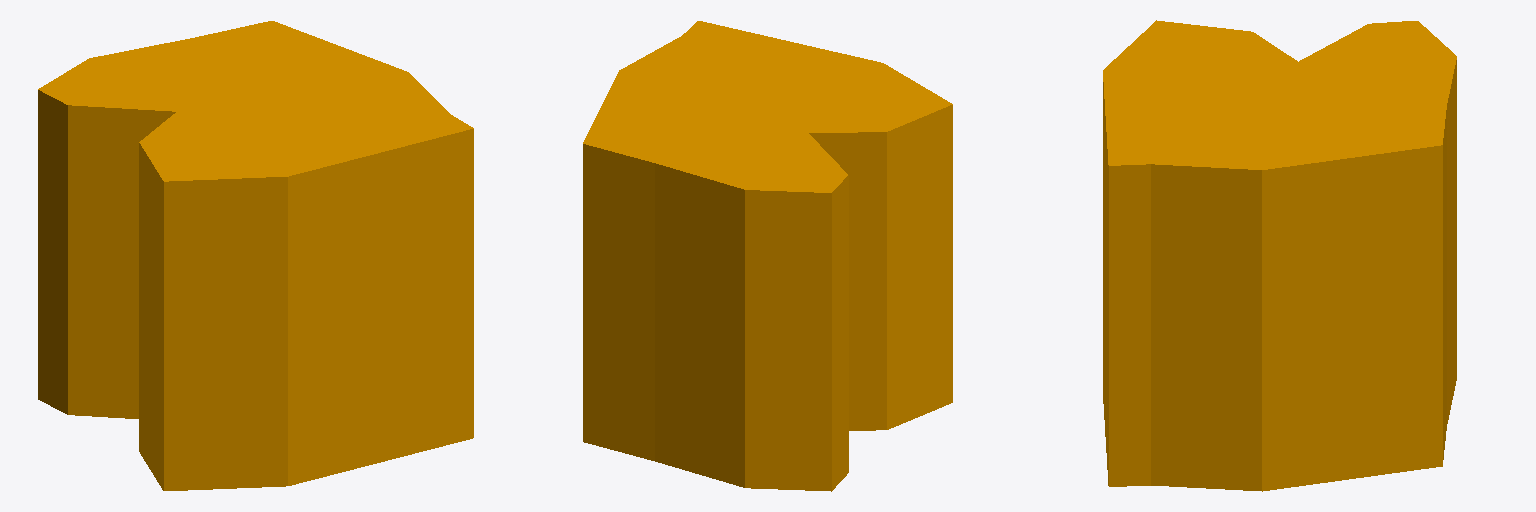
The robot description file, URDF, robot "object":
<?xml version="1.0"?>
<robot name="object">
  <link name="object">
    <visual>
      <origin xyz="0 0 0"/>
      <geometry>
        <mesh filename="meshes/polygon/poly_42_s.obj" scale=".03 .03 .03"/>
      </geometry>
    </visual>
    <collision>
  <origin xyz="0 0 0"/>
  <geometry>
    <mesh filename="meshes/polygon/poly_42_s_0decompose.obj" scale=".03 .03 .03"/>
<!--          <mesh filename="meshes/custom/obj0_ball.obj" scale=".05 .05 .05"/>-->
  </geometry>
</collision>

<!--    <collision>-->
<!--      <origin xyz="0 0 0"/>-->
<!--      <geometry>-->
<!--        <mesh filename="meshes/polygon/poly_42_s.obj" scale=".03 .03 .03"/>-->
<!--&lt;!&ndash;          <mesh filename="meshes/custom/obj0_ball.obj" scale=".05 .05 .05"/>&ndash;&gt;-->
<!--      </geometry>-->
<!--    </collision>-->
    <inertial>
      <density value="1000.0"/>
    </inertial>
  </link>
</robot>

--- Render facts (derived) ---
The picture shows the robot from 3 angles, left to right: view 1: azimuth 30°, elevation 25°; view 2: azimuth 150°, elevation 25°; view 3: azimuth 270°, elevation 25°; orthographic projection.
Robot: object — 1 links, 0 joints (none); root link object; default pose: all joints at 0.
Visible links, largest first — view 1: object; view 2: object; view 3: object.
Link boxes in pixels (left/top/right/bottom): object: left=38, top=21, right=473, bottom=490; object: left=583, top=21, right=952, bottom=491; object: left=1103, top=20, right=1456, bottom=491.
Bounding box of the posed robot: 0.06 × 0.06 × 0.06 m (x, y, z).
1 mesh visuals loaded from 1 distinct referenced files (1 OBJ).
